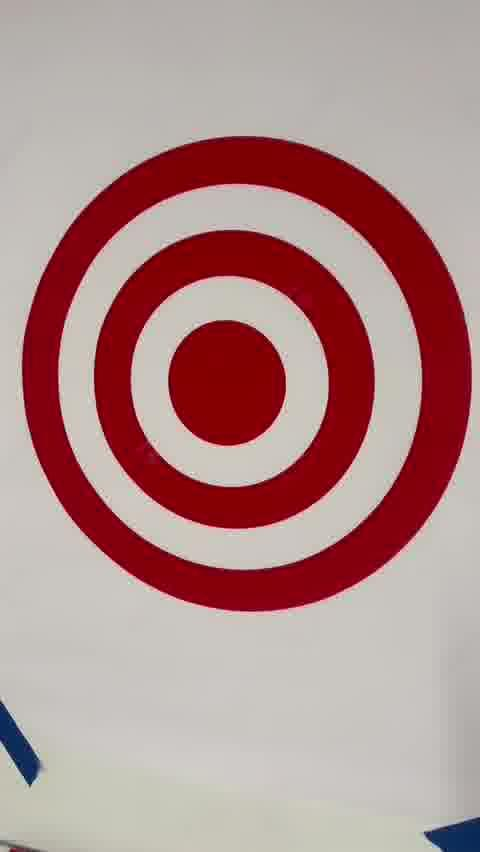target_red: (21, 135, 474, 609)
